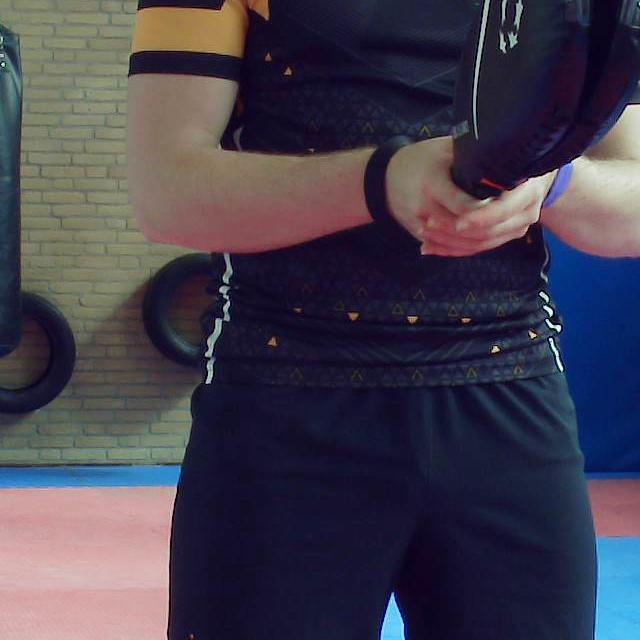paddle: (454, 0, 640, 195)
